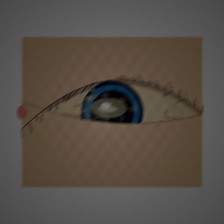corneal_ulcer: (78, 84, 138, 132)
